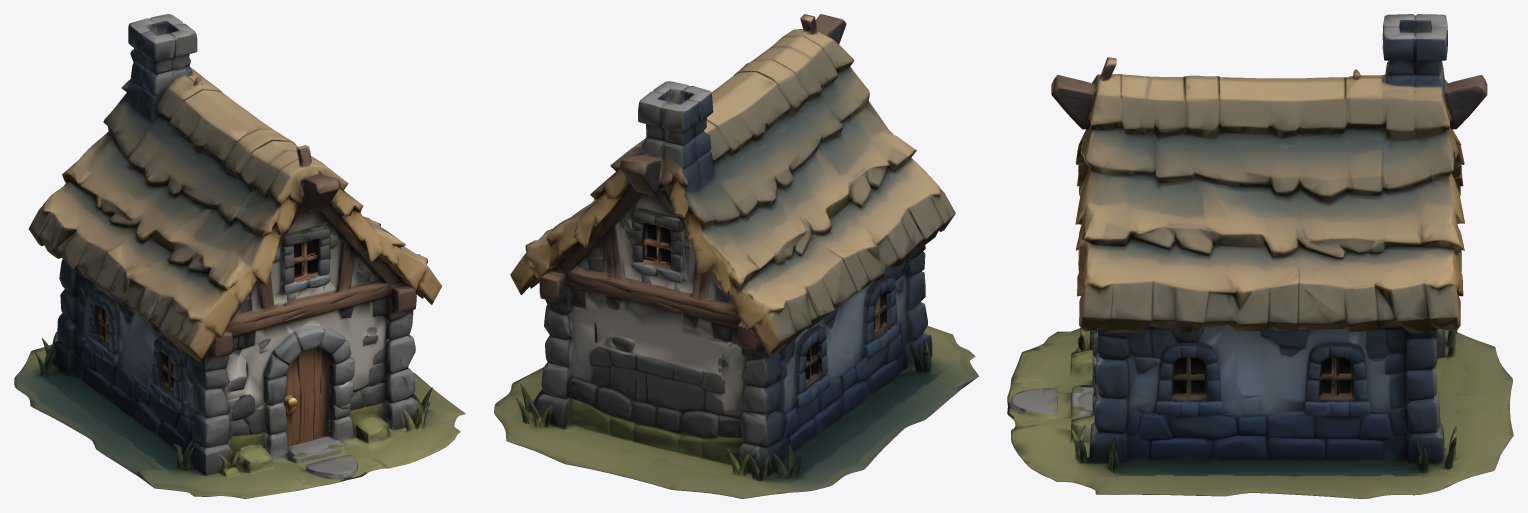
Rendered from cottage_stone.glb.
3 views of the same model, side by side, from view 1: azimuth 30°, elevation 25°; view 2: azimuth 150°, elevation 25°; view 3: azimuth 270°, elevation 25° (orthographic). The views are drawn at different scales.
Parts seen in each view (by area): view 1: node_0; view 2: node_0; view 3: node_0.
Part boxes in pixels (box(x1,y1,x2,y2)): node_0: box(14, 14, 465, 498); node_0: box(494, 14, 978, 498); node_0: box(1007, 14, 1513, 498).
Size of the model in its own units: 0.7538 by 0.7176 by 0.8773.
Materials: 1 (1 with a texture image).
